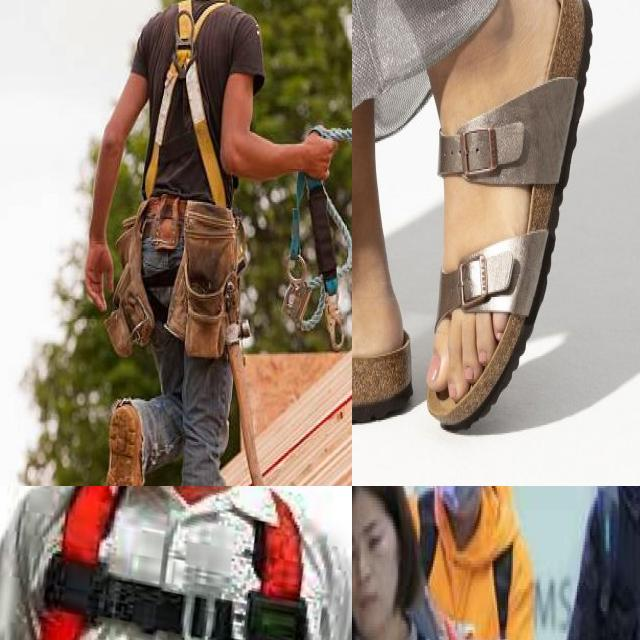Harness: (38, 486, 308, 640), (144, 0, 227, 206), (284, 173, 352, 352)
No_Glasses: (352, 504, 396, 565)
Sandals: (352, 0, 601, 463)
face_mask: (431, 486, 485, 516)
face_nomask: (352, 504, 401, 640)
person: (402, 486, 538, 640), (352, 486, 452, 640), (567, 486, 640, 640)
